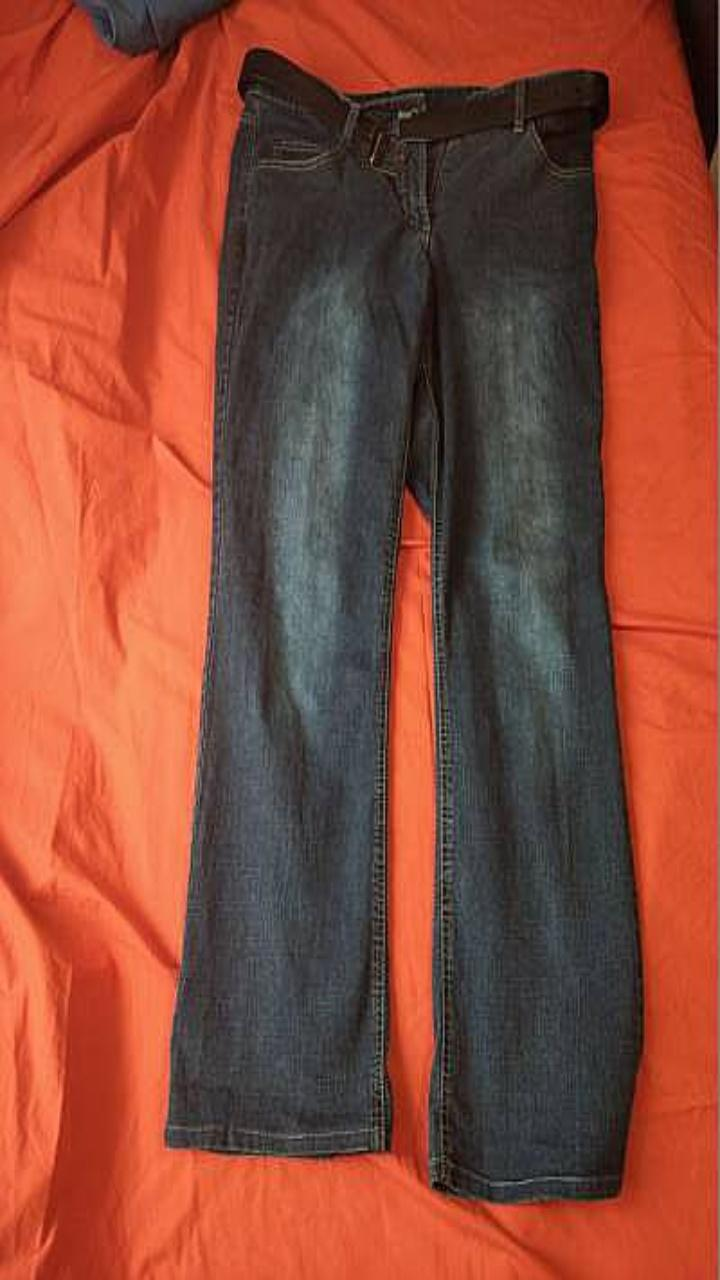Jeans: (165, 84, 642, 1201)
